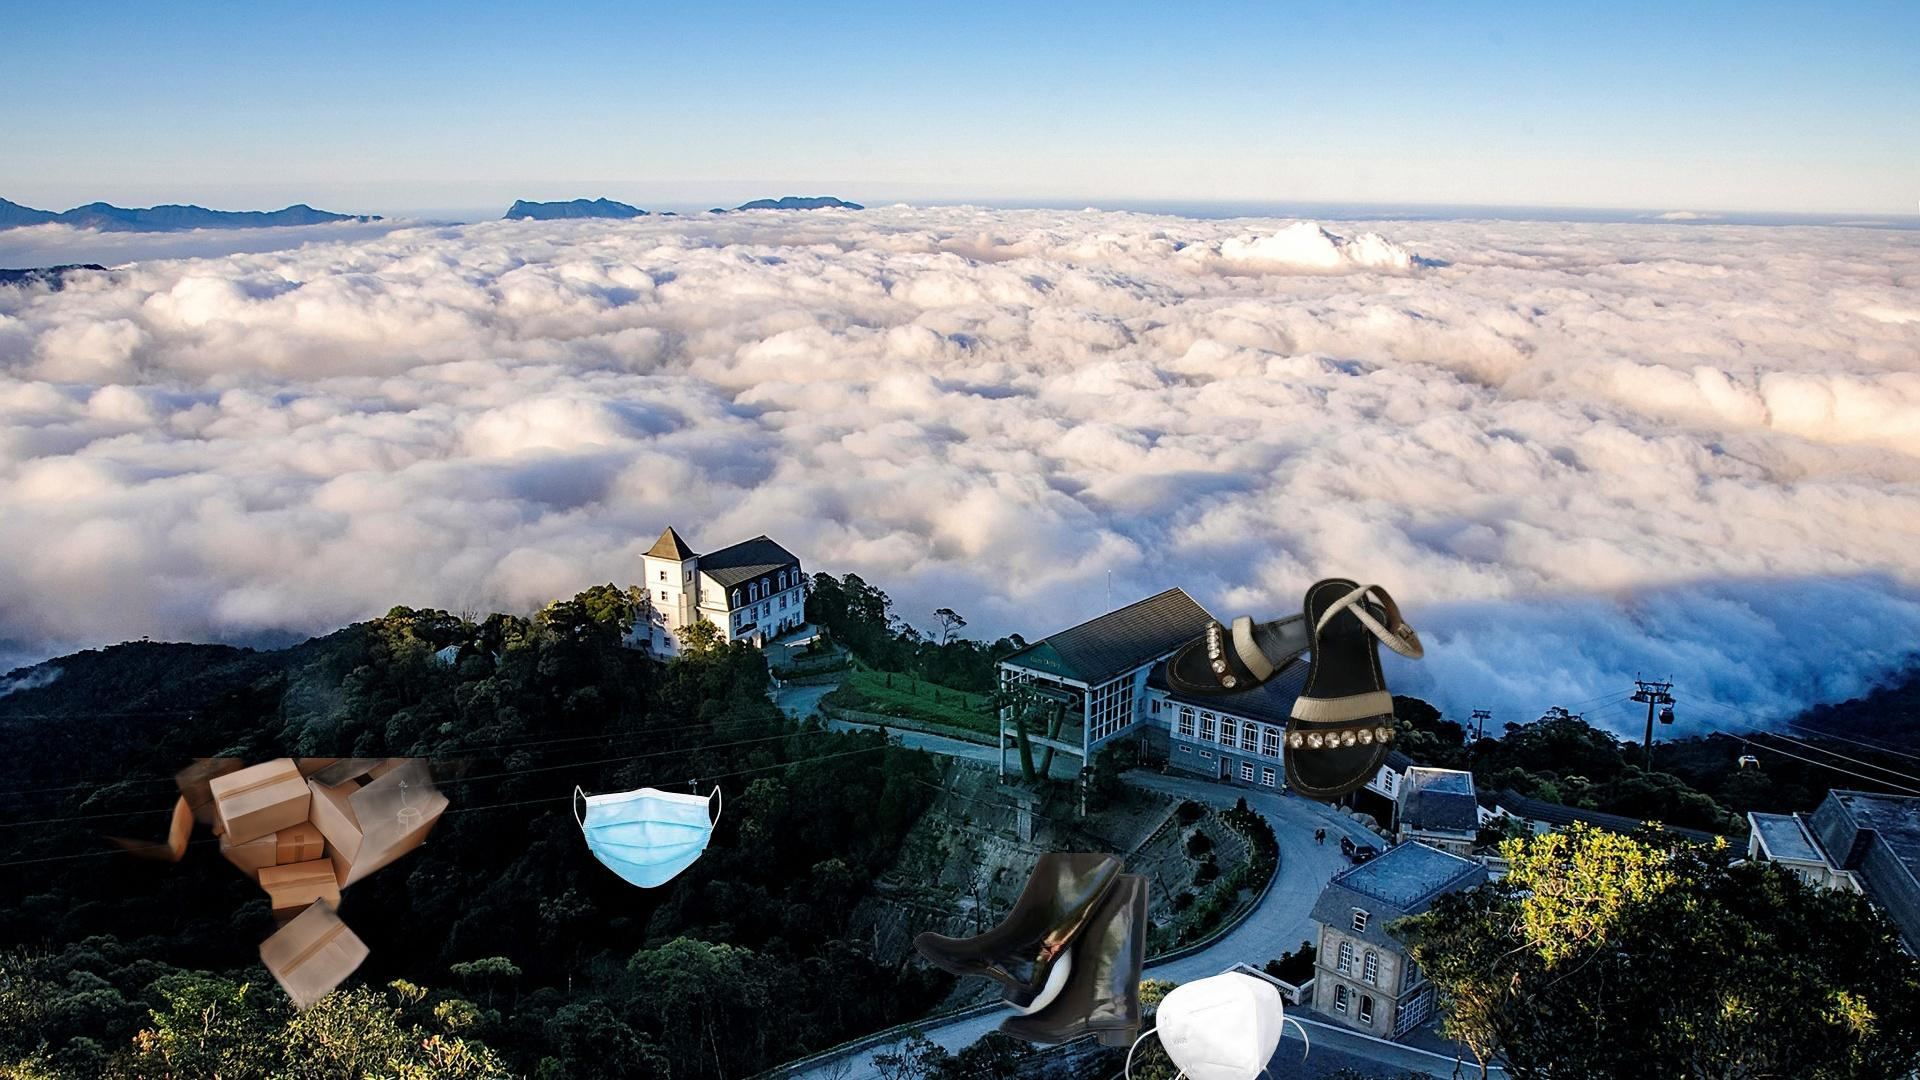shoes: (1162, 573, 1428, 807), (910, 853, 1152, 1049)
trash: (1122, 968, 1312, 1080), (571, 782, 727, 892)
trashbox-cardboard: (91, 758, 481, 1038)
